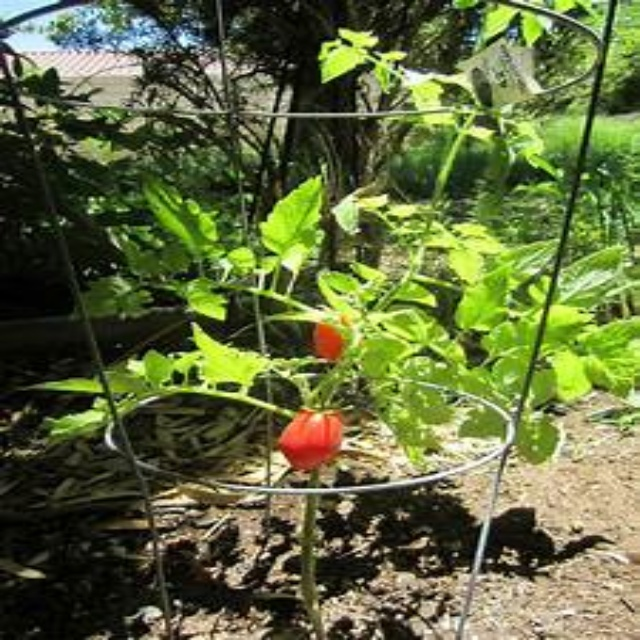tomato: (259, 399, 371, 484), (293, 301, 374, 372)
